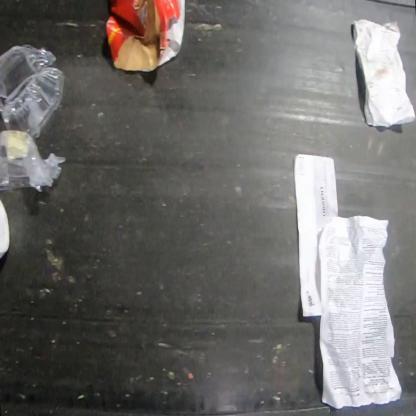cardboard: (104, 0, 186, 73)
rigid_plastic: (0, 45, 67, 194), (0, 198, 11, 261)
